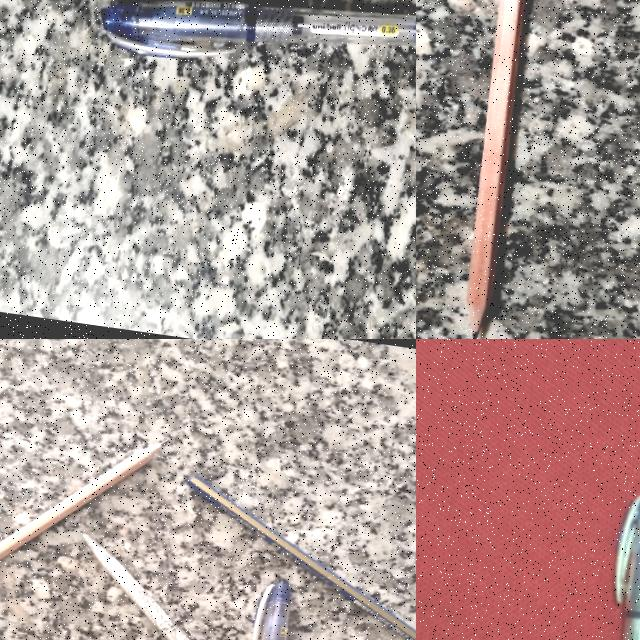pen: (101, 1, 415, 57), (230, 576, 295, 640), (613, 495, 640, 640)
pencil: (187, 477, 416, 640), (0, 408, 157, 640), (468, 0, 525, 338)
signature pen: (85, 535, 196, 640)
